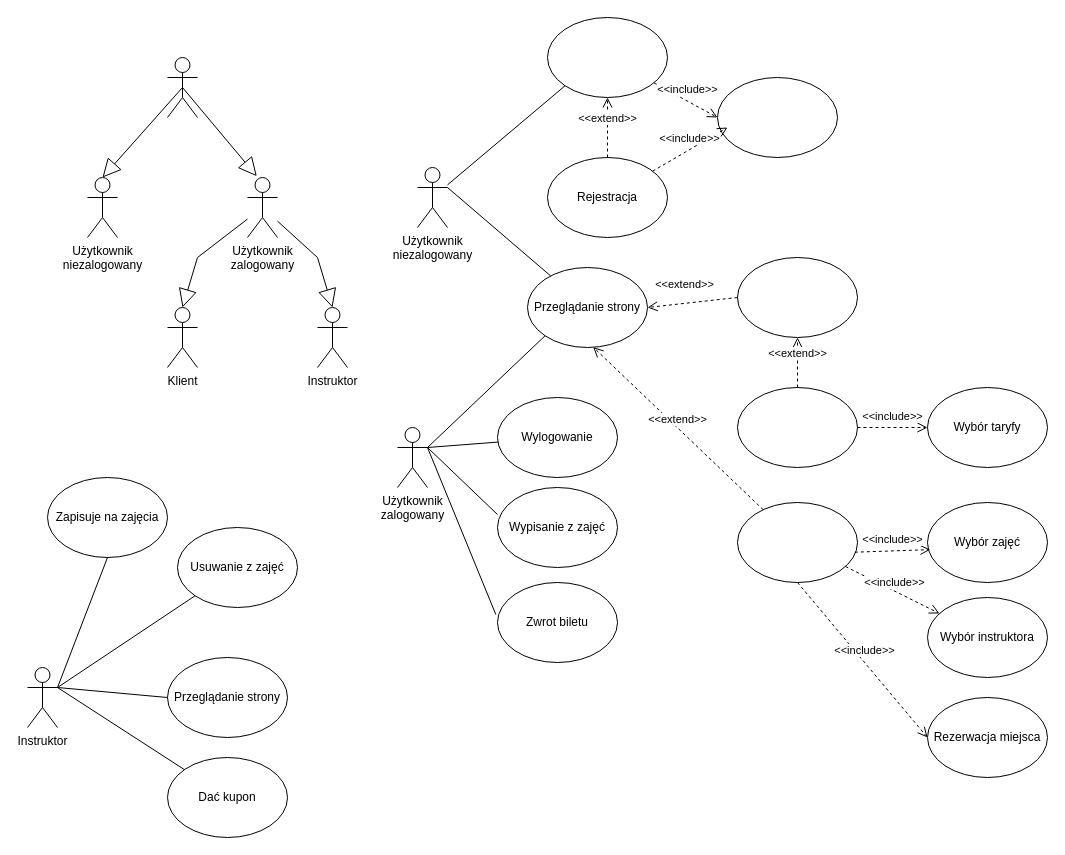
This 1065x855 diagram has some shape labels left out. Here are the shapes that lost their labels. From the top down, the box of each, then its label:
(546, 16, 668, 98): Logowanie
(166, 56, 198, 118): Użytkownik
(716, 76, 838, 158): Autentyfikacja
(736, 256, 858, 338): Sprawdzanie dostepnych atrakcji
(736, 386, 858, 468): Zakup biletu
(736, 502, 858, 582): Zapis na zajęcia
